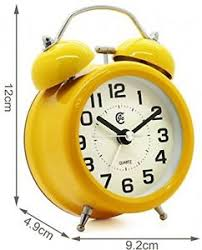alarm_clock: (23, 3, 194, 231), (35, 3, 194, 231)
